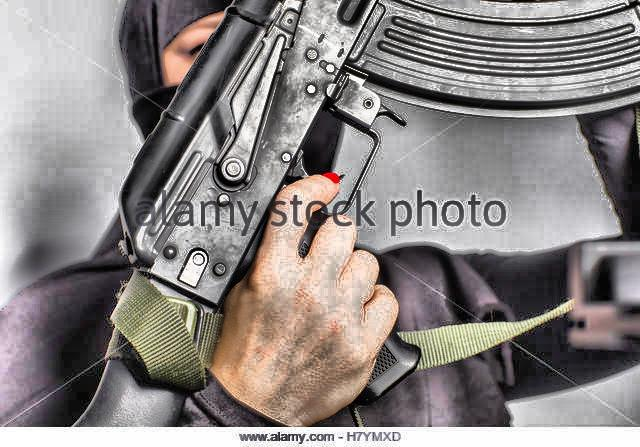pistol: (67, 2, 429, 426)
